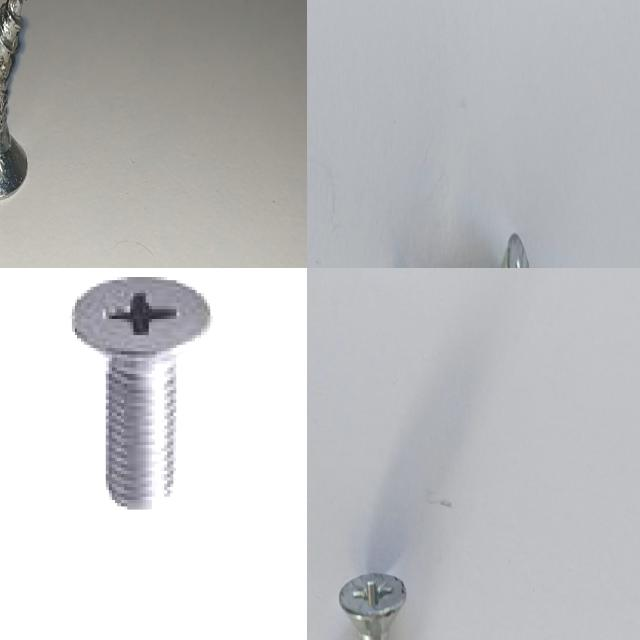Screw: (69, 277, 210, 513), (0, 0, 27, 198), (339, 572, 406, 640)
